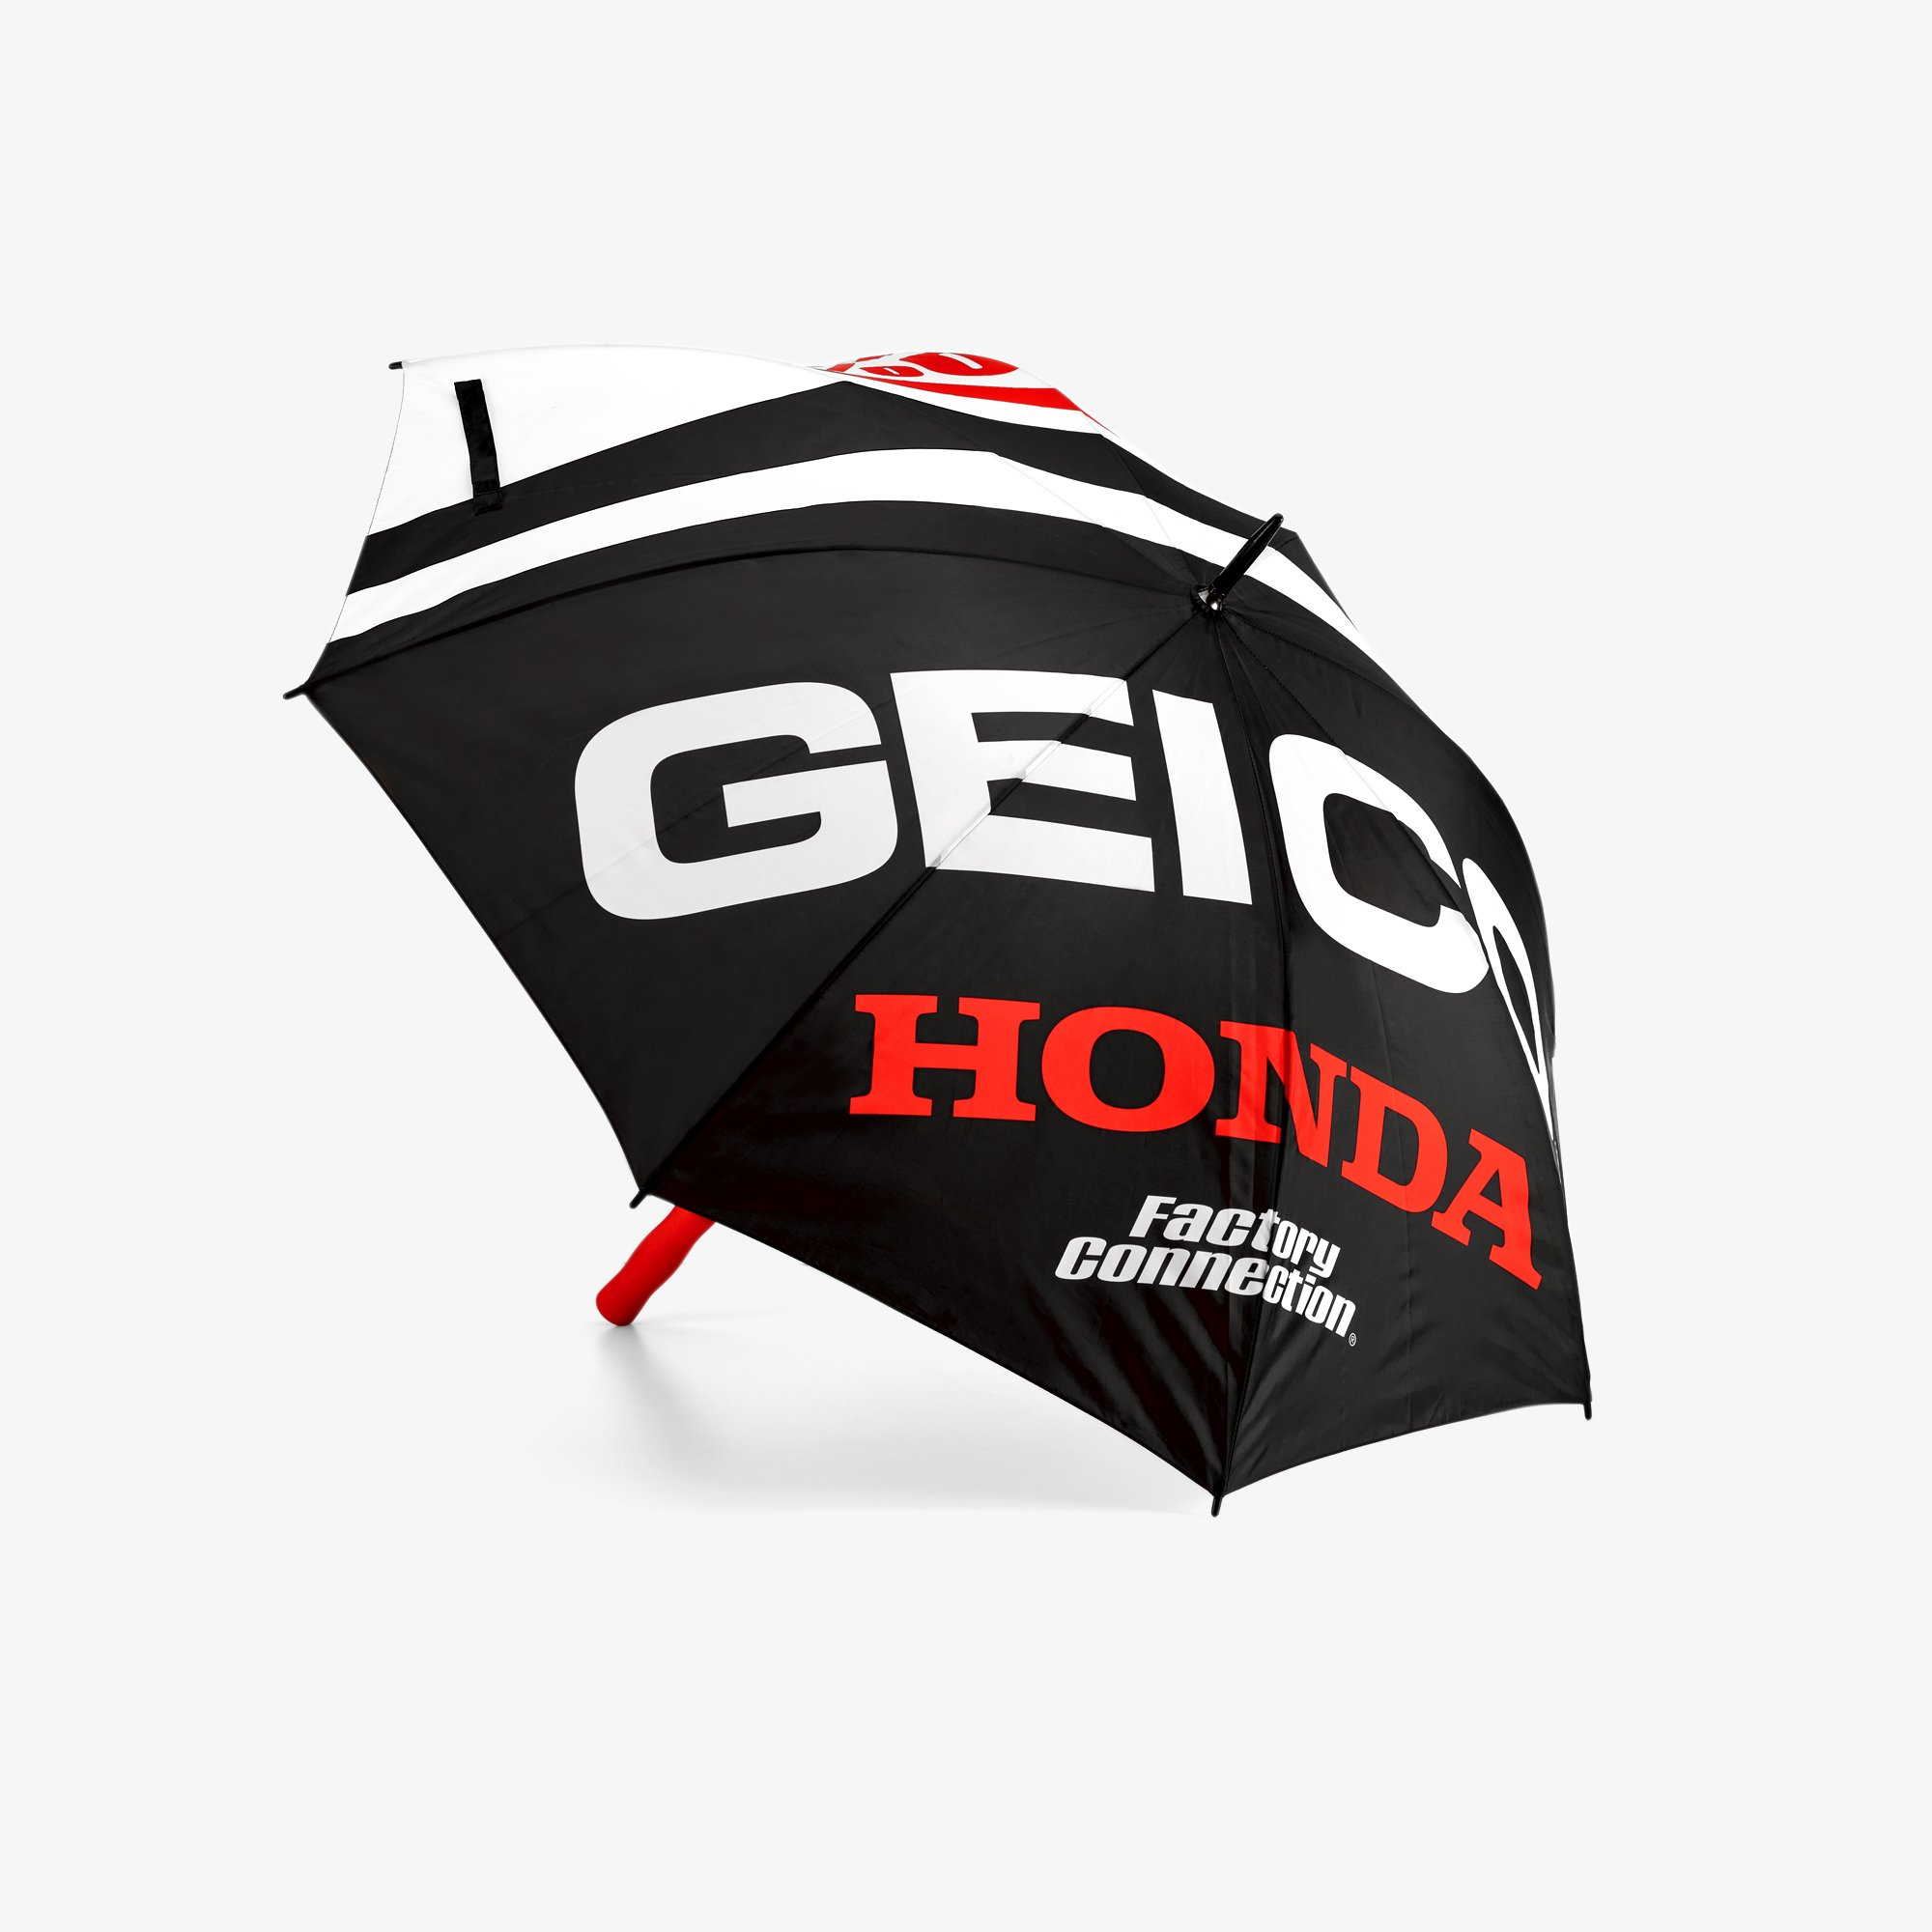Geico: (556, 648, 1610, 1109)
